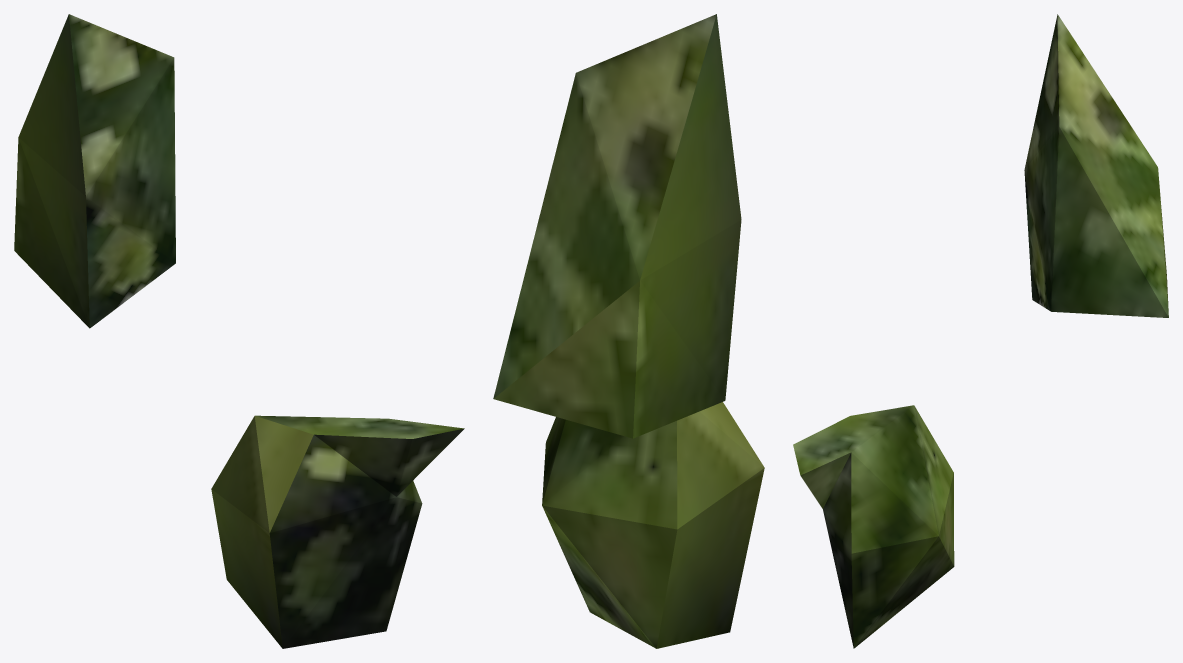
3 views of the same model, side by side, from view 1: azimuth 30°, elevation 25°; view 2: azimuth 150°, elevation 25°; view 3: azimuth 270°, elevation 25° (orthographic). The views are drawn at different scales.
Size of the model in its own units: 0.1143 by 0.2492 by 0.1567.
Materials: 1 (1 with a texture image).
